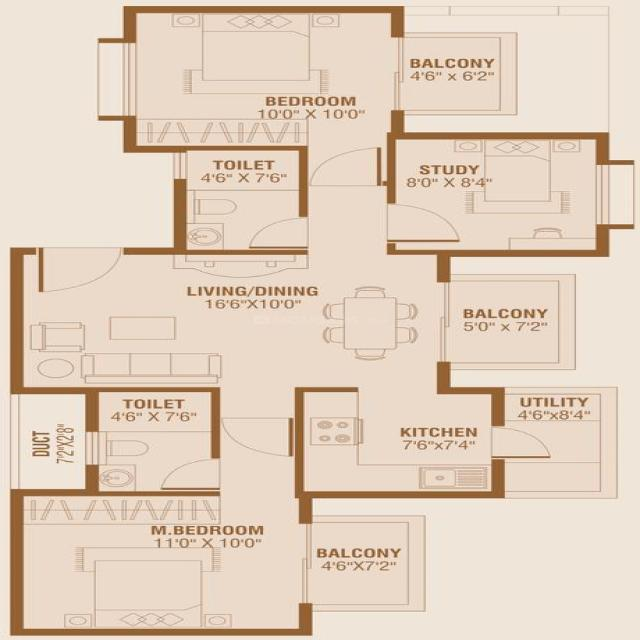Balcony-Sitout: (447, 278, 564, 365), (307, 519, 412, 607), (398, 34, 503, 112)
Bedroom: (132, 11, 393, 147)
Bedroom with Toilet: (13, 389, 303, 631)
Dining: (317, 282, 423, 364)
Enterance-Foyer: (28, 246, 127, 296)
Kitchen: (300, 389, 495, 494)
Living: (20, 252, 298, 388)
Toilet: (185, 150, 302, 250), (98, 391, 212, 492)
Utility: (498, 392, 605, 493)
